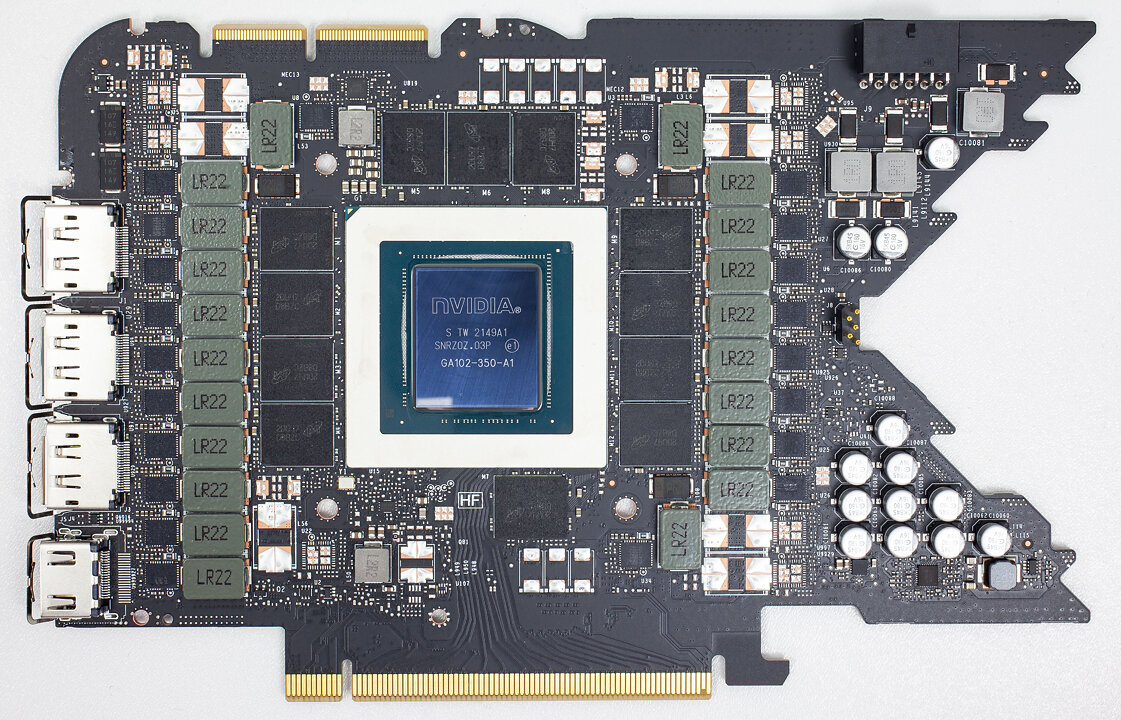Induktor: (247, 99, 295, 170), (178, 156, 247, 205), (657, 504, 703, 571), (658, 100, 701, 171), (180, 207, 245, 251), (706, 160, 771, 204), (181, 294, 247, 337), (705, 467, 769, 510), (181, 339, 248, 380), (706, 207, 771, 249), (180, 252, 248, 292), (707, 294, 769, 337), (706, 251, 771, 292), (181, 557, 247, 597), (181, 425, 245, 466), (183, 512, 244, 555), (705, 382, 770, 422), (706, 425, 770, 465), (708, 339, 771, 379), (181, 381, 241, 422), (184, 470, 245, 510), (955, 88, 1004, 137), (825, 148, 872, 196), (873, 148, 916, 194), (337, 106, 374, 146), (355, 544, 390, 582), (980, 555, 1019, 589)
